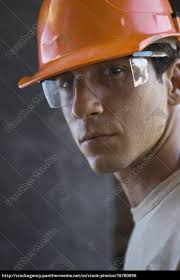Person_wearing_helmet: (23, 2, 179, 111)
